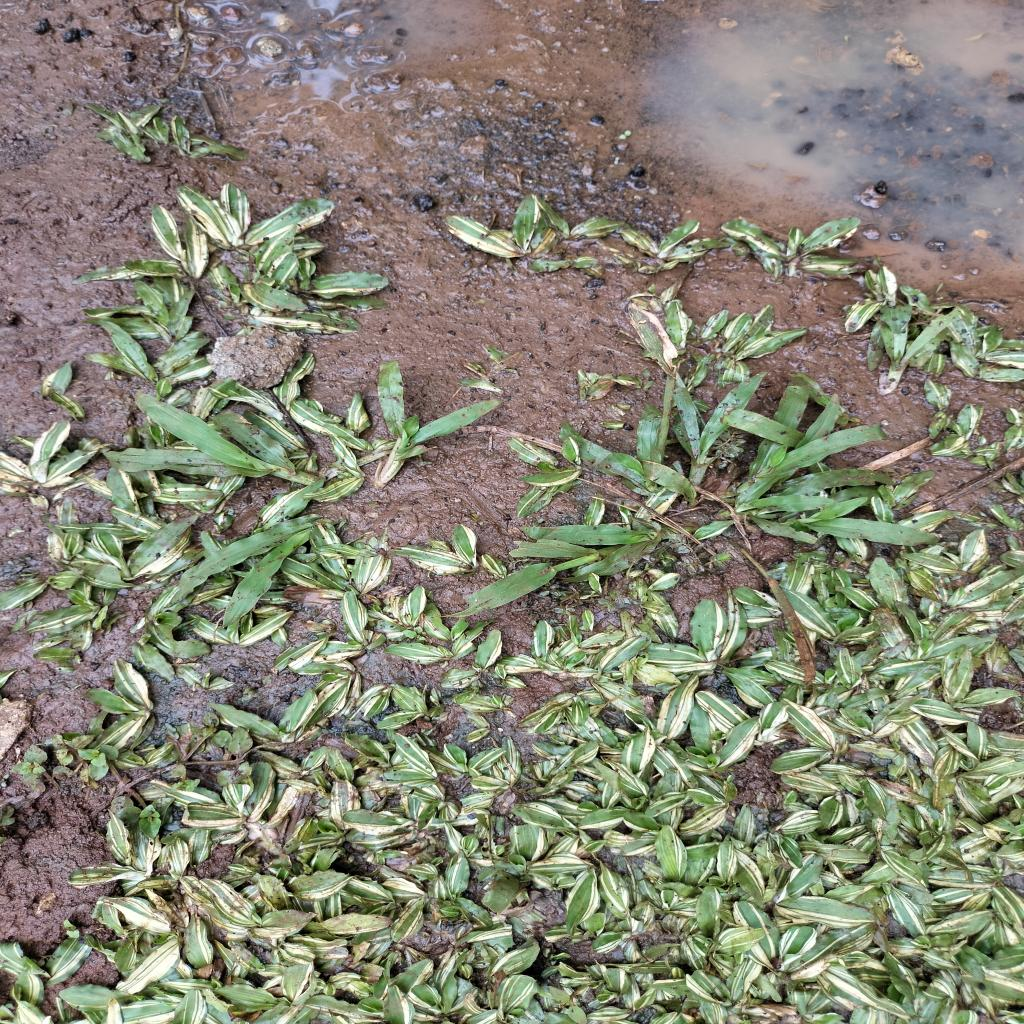rambat bawah: (722, 372, 946, 550), (438, 523, 710, 619), (102, 385, 322, 488), (162, 511, 325, 631), (372, 356, 508, 492), (664, 366, 770, 500), (874, 298, 952, 404)
ungu tunggang: (13, 731, 121, 786)
